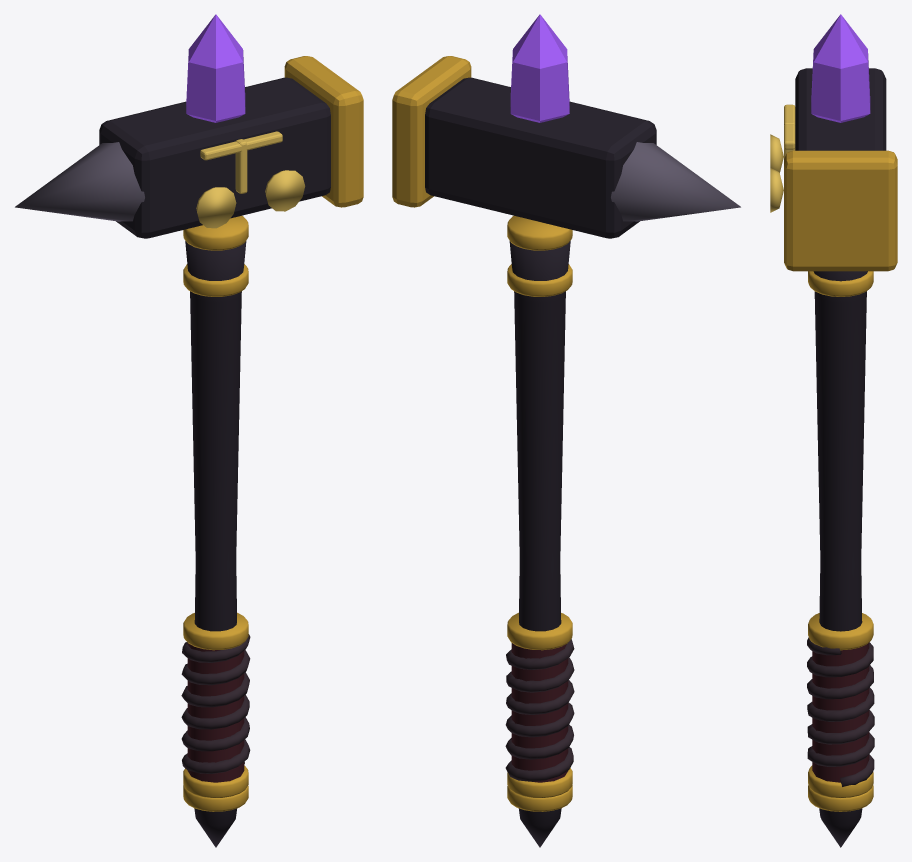
Rendered from mace_judgment.fbx.
3 views of the same model, side by side, from view 1: azimuth 30°, elevation 25°; view 2: azimuth 150°, elevation 25°; view 3: azimuth 270°, elevation 25° (orthographic).
Visible parts, largest first — view 1: mace_judgment; view 2: mace_judgment; view 3: mace_judgment.
Part boxes in pixels (x1,y1,x2,y2): mace_judgment: (15,14,363,847); mace_judgment: (392,14,740,847); mace_judgment: (770,14,897,847).
Bounding box in the file's own units: 0.33 × 0.81 × 0.112.
